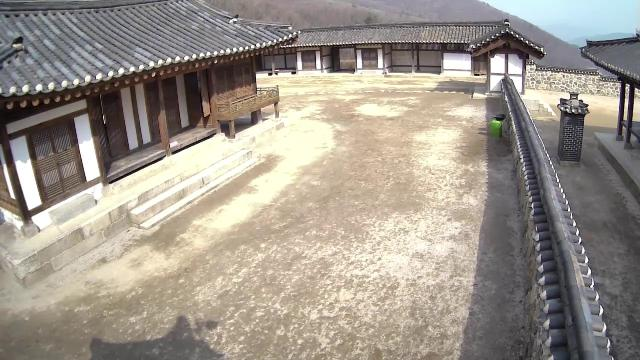bag: (489, 118, 503, 140)
